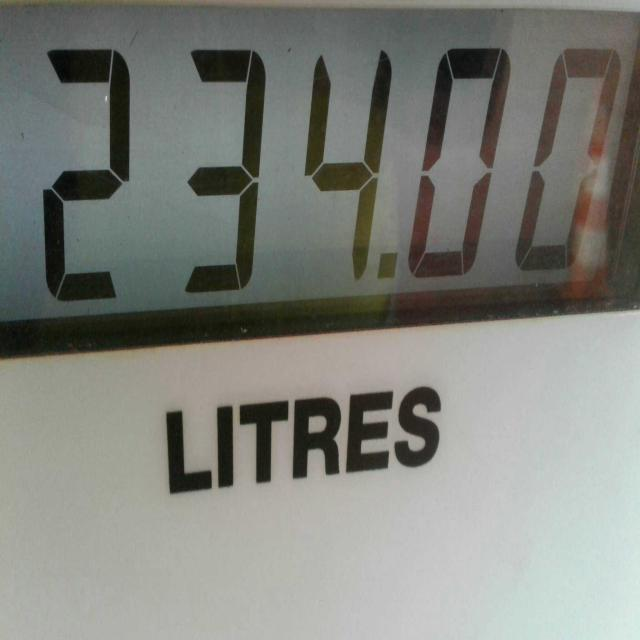.: (374, 233, 400, 294)
0: (406, 28, 512, 290), (515, 32, 624, 284)
2: (31, 33, 152, 316)
3: (163, 20, 269, 304)
4: (288, 34, 390, 318)
